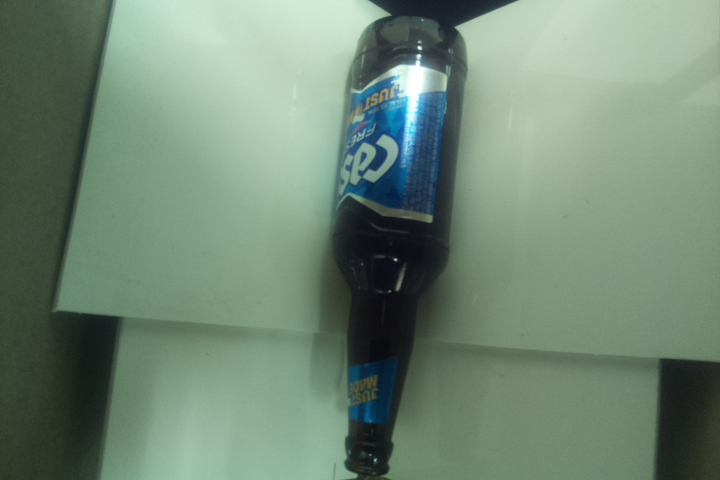makju: (327, 13, 469, 475)
